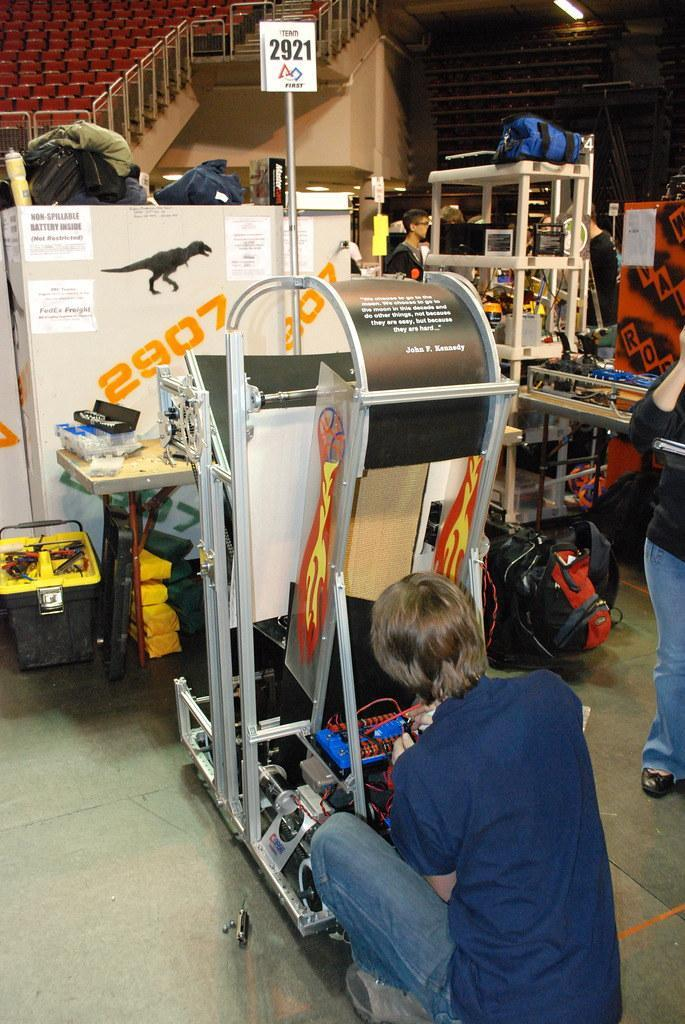robot: (160, 260, 516, 944)
